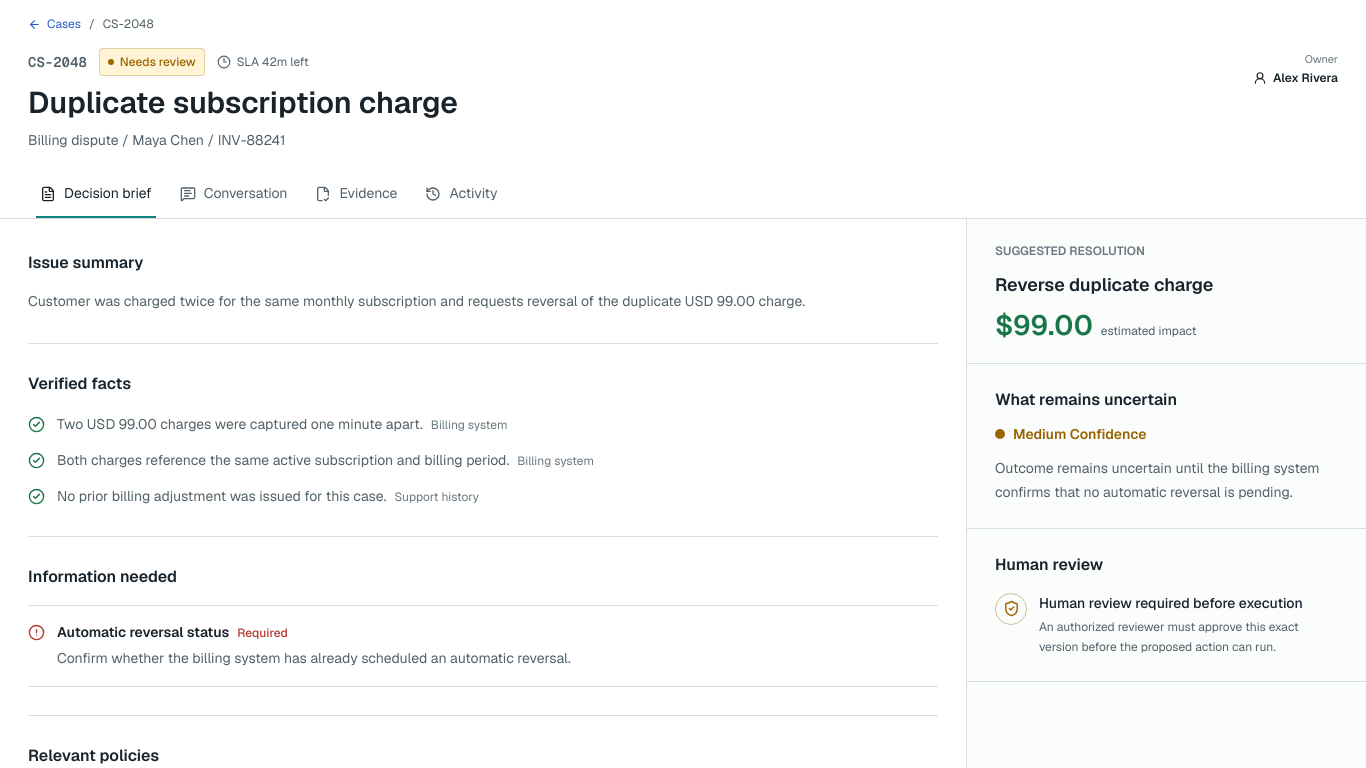
Test: CaseWorkspace › hides audit export when the actor is not allowed to export it
This screenshot has width=1366, height=768.
Click the tab "Activity". click: {"x": 462, "y": 194}
box: [414,170,510,218]
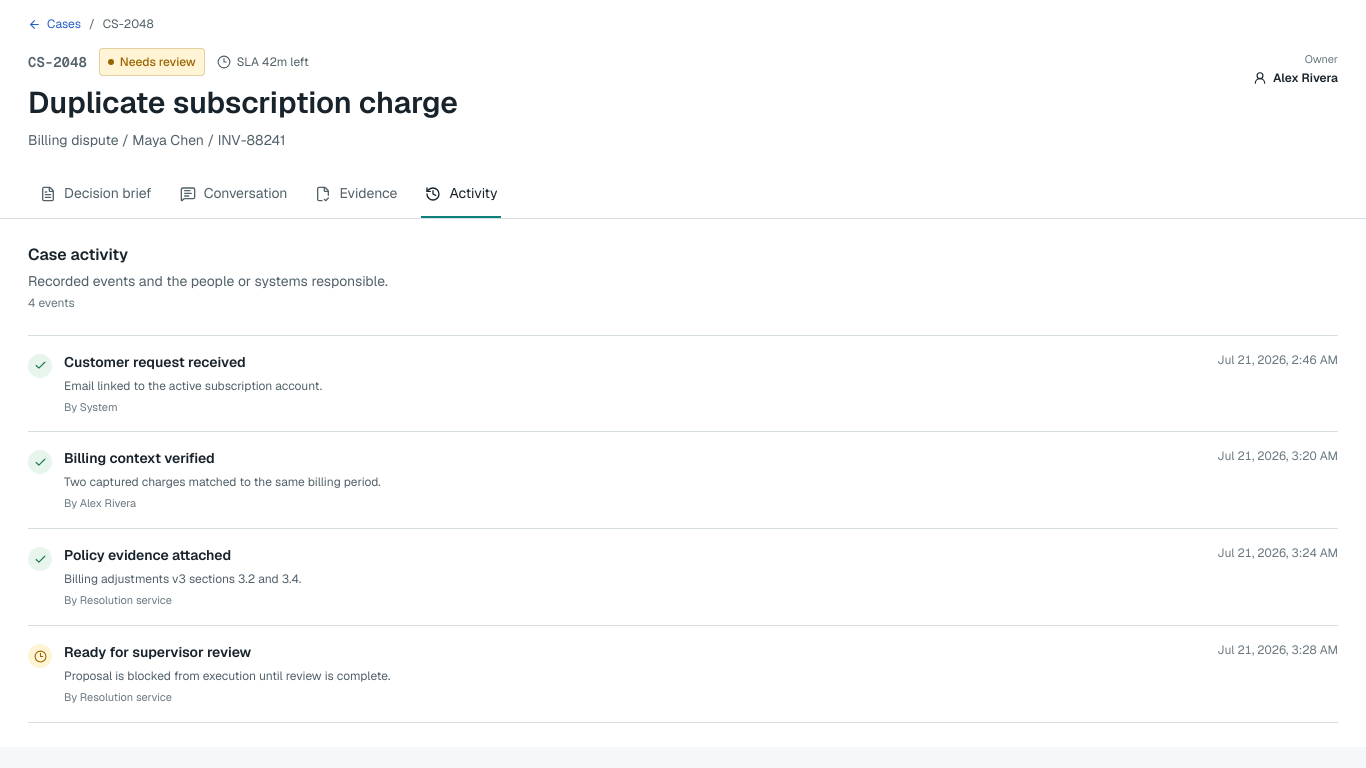
Expected: the heading "Case activity" is shown, [28,244,128,264]
